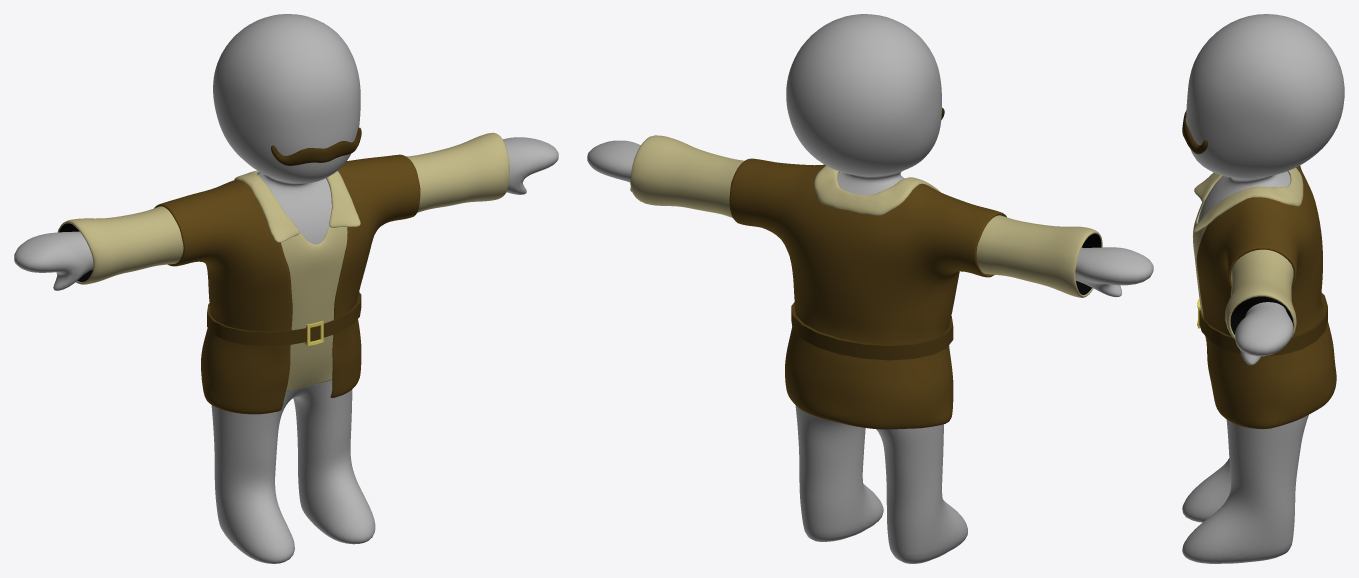
File: Character_Model.fbx
The picture shows the model from 3 angles, left to right: view 1: azimuth 30°, elevation 25°; view 2: azimuth 150°, elevation 25°; view 3: azimuth 270°, elevation 25°; orthographic projection. The views are drawn at different scales.
Parts seen in each view (by area): view 1: Body_B; view 2: Body_B; view 3: Body_B.
Boxes of the visible parts, bbox=[...] form: Body_B: bbox=[14, 14, 558, 563]; Body_B: bbox=[587, 14, 1153, 563]; Body_B: bbox=[1182, 14, 1344, 563].
Bounding box in the file's own units: 8.05 × 7.23 × 2.05.
